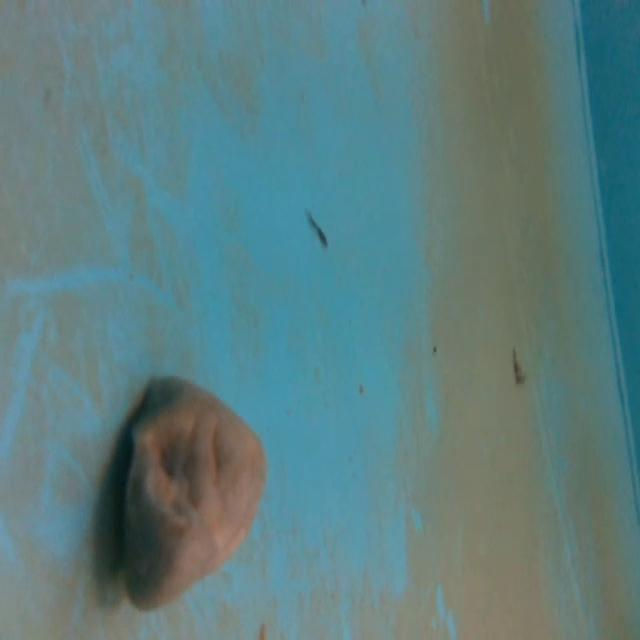rock: (104, 369, 275, 619)
